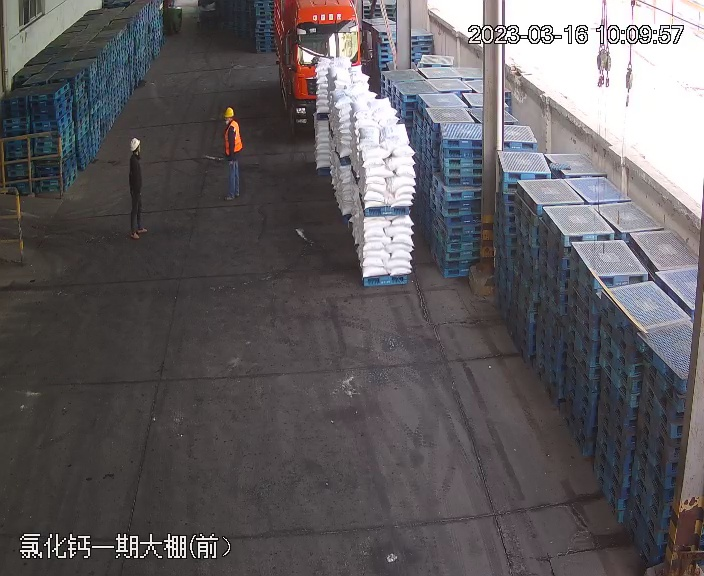head: (216, 104, 248, 200), (218, 106, 245, 138), (127, 137, 143, 163)
helmet: (221, 106, 235, 118), (130, 138, 141, 152)
people: (215, 105, 248, 203), (124, 138, 148, 242)
truck: (266, 1, 366, 119)
